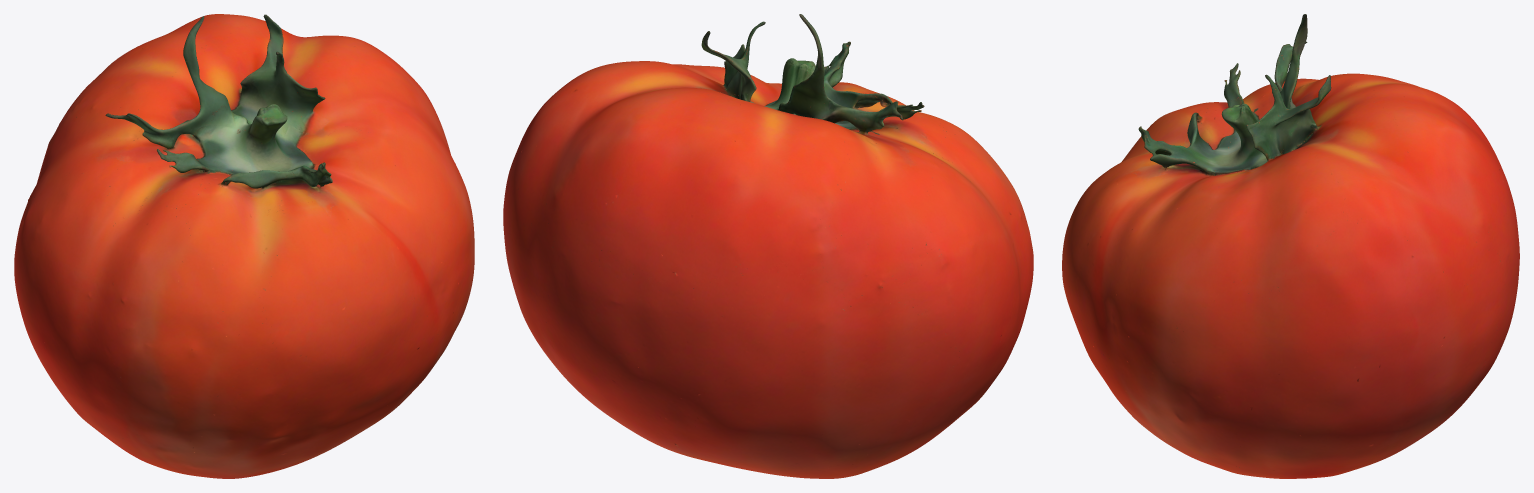
The model's file is cover2.glb.
The picture shows the model from 3 angles, left to right: view 1: azimuth 30°, elevation 25°; view 2: azimuth 150°, elevation 25°; view 3: azimuth 270°, elevation 25°; orthographic projection. The views are drawn at different scales.
Bounding box in the file's own units: 2 × 1.96 × 1.89.
Materials: 1 (1 with a texture image).
